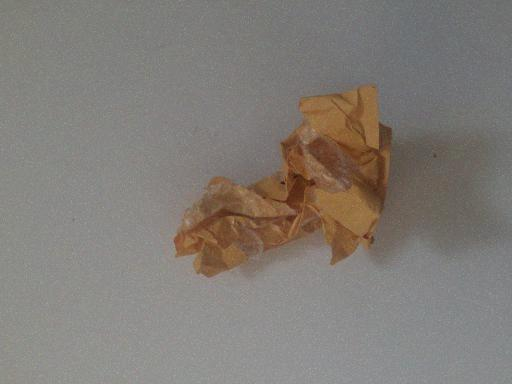trash: (173, 84, 390, 278)
